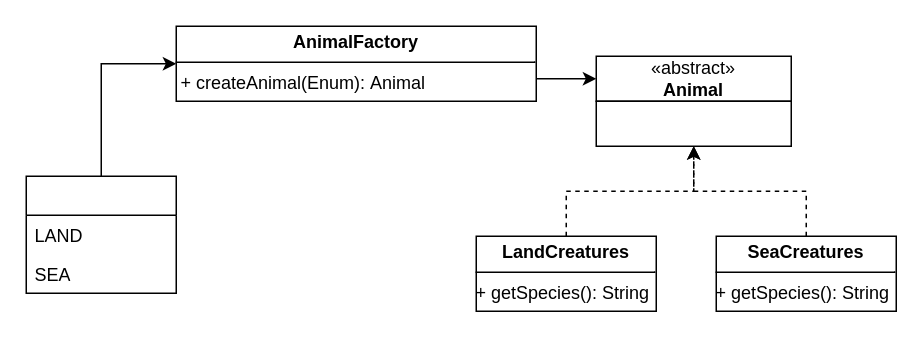
The diagram is 923 pixels wide and 338 high, and some of its shapes have lost their labels. Here are the shapes that lost their labels. From the top down, the box of each, then its label:
(595, 100, 791, 146): + getSpecies(): String
(25, 175, 176, 293): Species
